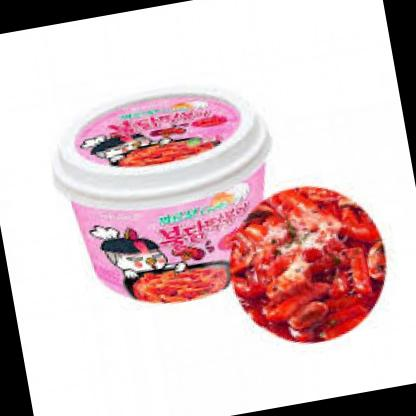Ramen: (40, 70, 299, 322)
